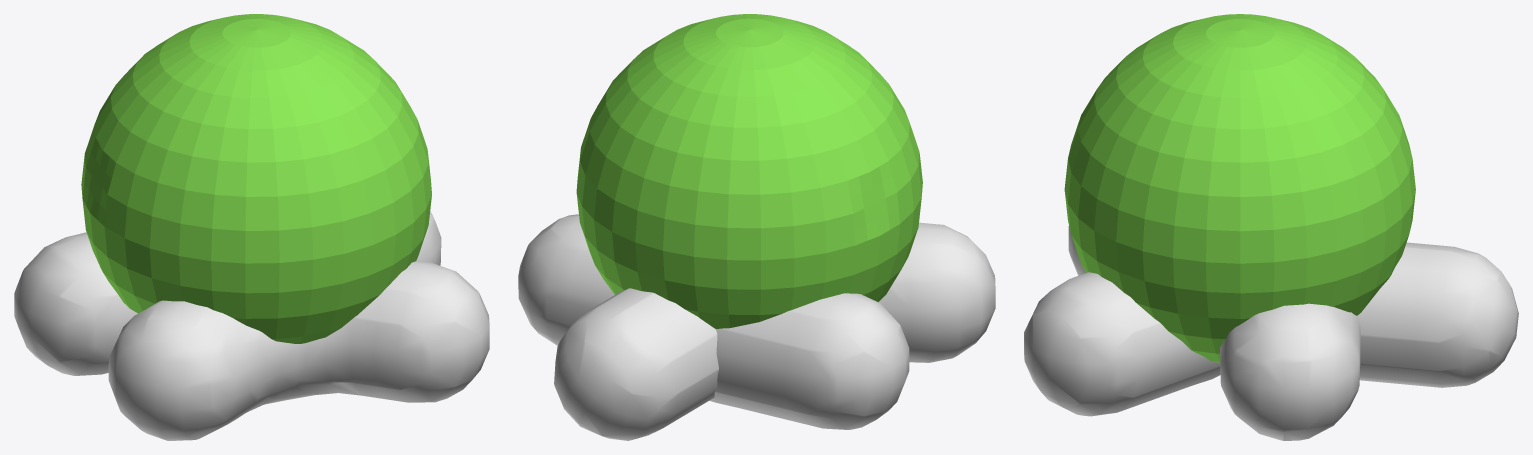
File: Turtle .fbx
The picture shows the model from 3 angles, left to right: view 1: azimuth 30°, elevation 25°; view 2: azimuth 150°, elevation 25°; view 3: azimuth 270°, elevation 25°; orthographic projection.
Visible parts, largest first — view 1: Shell, Leg, Arm; view 2: Shell, Arm, Head, Leg; view 3: Shell, Head, Leg, Arm.
Part boxes in pixels (x1,y1,x2,y2): Shell: [81, 14, 431, 343]; Leg: [108, 260, 489, 440]; Arm: [14, 212, 441, 375]; Shell: [576, 14, 922, 328]; Arm: [518, 214, 909, 429]; Head: [554, 288, 718, 440]; Leg: [878, 222, 995, 362]; Shell: [1064, 14, 1415, 362]; Head: [1357, 242, 1518, 387]; Leg: [1024, 226, 1220, 416]; Arm: [1220, 303, 1360, 440].
Size of the model in its own units: 733 by 612 by 802.
